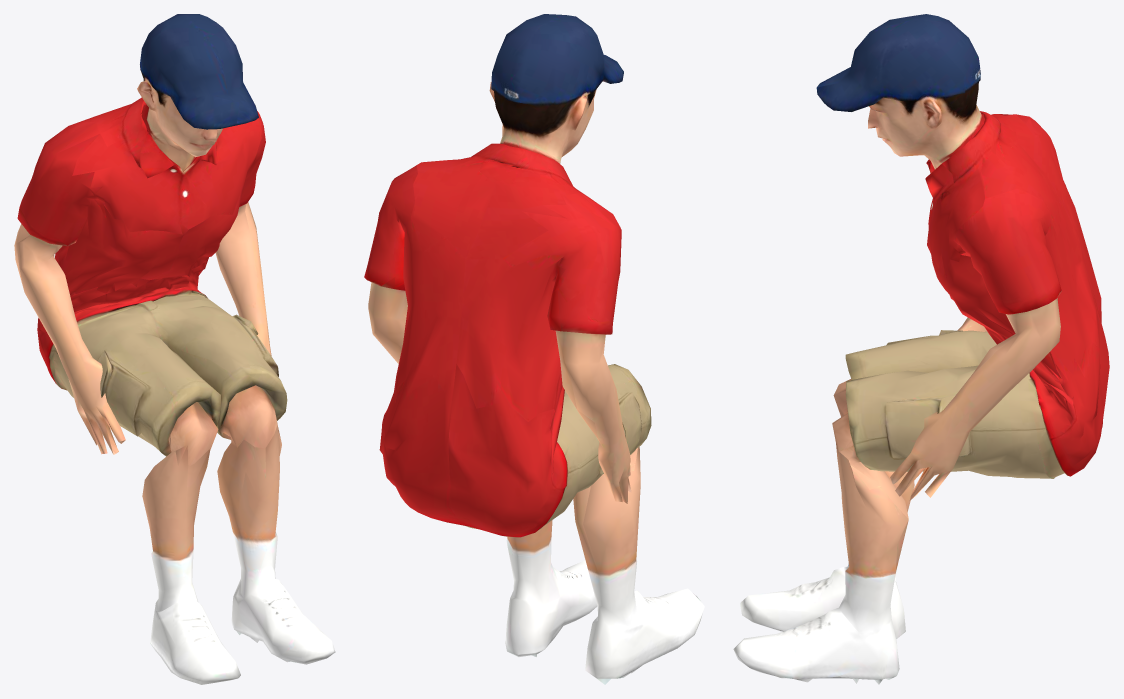
The model's file is fan_dad_lean.glb.
3 renders of one model, left to right at view 1: azimuth 30°, elevation 25°; view 2: azimuth 150°, elevation 25°; view 3: azimuth 270°, elevation 25°, orthographic. The views are drawn at different scales.
Parts seen in each view (by area): view 1: char1; view 2: char1; view 3: char1.
Part boxes in pixels (x1,y1,x2,y2): char1: [14, 14, 335, 684]; char1: [364, 14, 704, 684]; char1: [733, 14, 1109, 684].
Size of the model in its own units: 0.5035 by 1.29 by 0.6879.
Materials: 1 (1 with a texture image).
